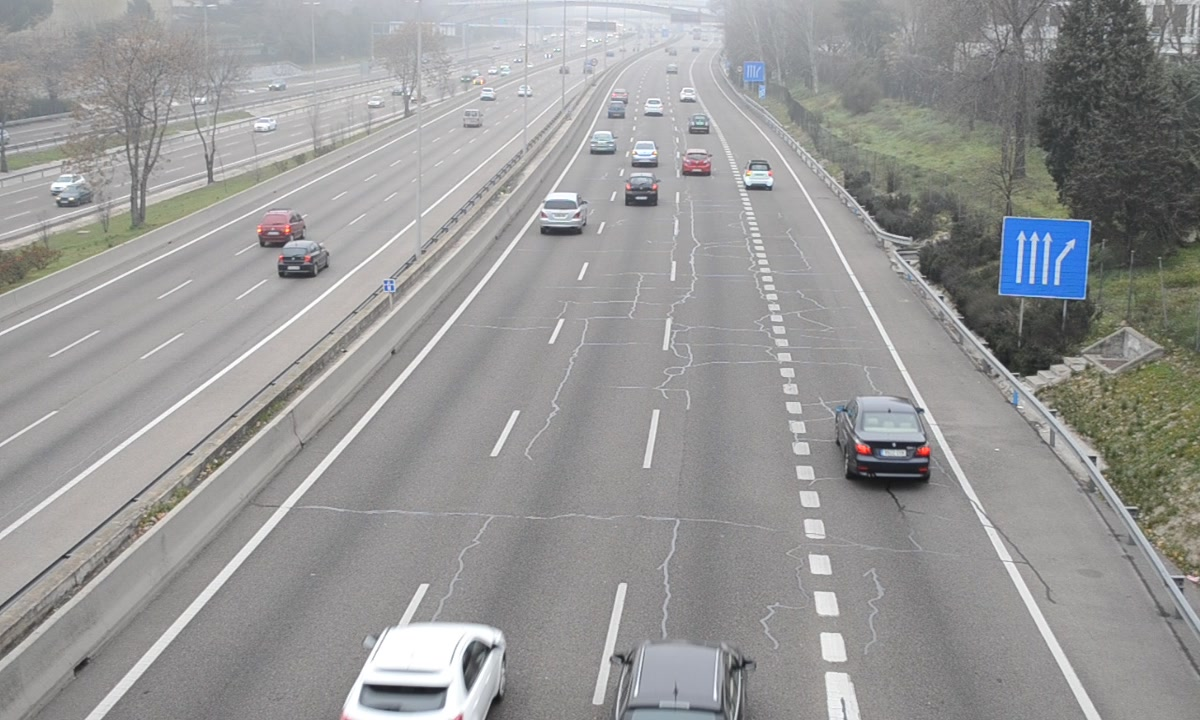car: (339, 622, 507, 718), (612, 640, 747, 720), (840, 395, 936, 480), (537, 191, 588, 231), (622, 172, 660, 209), (742, 158, 775, 192), (681, 148, 713, 178), (630, 140, 658, 168), (587, 130, 618, 155), (687, 113, 710, 135)
